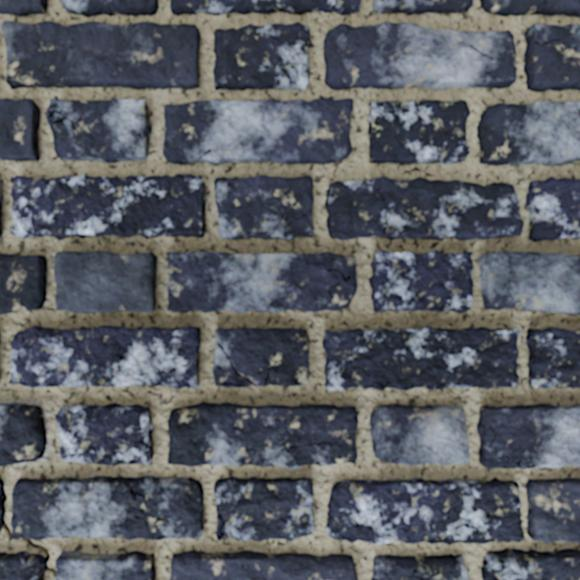brick: (1, 21, 199, 88), (326, 478, 523, 543), (324, 22, 515, 89), (11, 174, 205, 239), (323, 326, 518, 390), (168, 402, 357, 468), (163, 98, 352, 163), (325, 177, 522, 239), (11, 476, 203, 539), (9, 326, 199, 387), (167, 252, 356, 311), (47, 98, 151, 162), (214, 22, 310, 89), (477, 102, 579, 165), (477, 404, 579, 467), (369, 250, 472, 312), (368, 100, 469, 163), (214, 477, 314, 540), (54, 251, 156, 312), (479, 252, 579, 314), (215, 176, 313, 239), (56, 403, 153, 465), (370, 404, 468, 464), (215, 328, 308, 385), (171, 551, 356, 579), (524, 24, 579, 91), (526, 177, 579, 241), (526, 478, 579, 541), (526, 327, 579, 387), (482, 549, 579, 579), (0, 254, 46, 313), (56, 552, 155, 579), (171, 0, 359, 14), (0, 99, 39, 160), (372, 554, 467, 579), (62, 0, 158, 16), (481, 0, 579, 15), (373, 0, 472, 14), (0, 551, 45, 579), (213, 345, 245, 384), (0, 0, 46, 15), (0, 482, 4, 529), (217, 515, 220, 530), (0, 182, 1, 212)
broken_brick: (0, 402, 47, 466)
crack: (2, 510, 57, 579), (483, 425, 539, 468), (302, 254, 351, 297), (216, 342, 255, 387), (46, 108, 81, 135), (216, 505, 238, 540), (402, 569, 437, 579), (264, 360, 277, 386), (281, 213, 312, 221), (1, 489, 7, 504), (0, 472, 3, 481)
